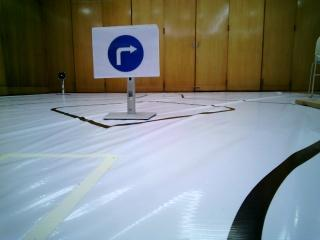right: (94, 31, 154, 71)
